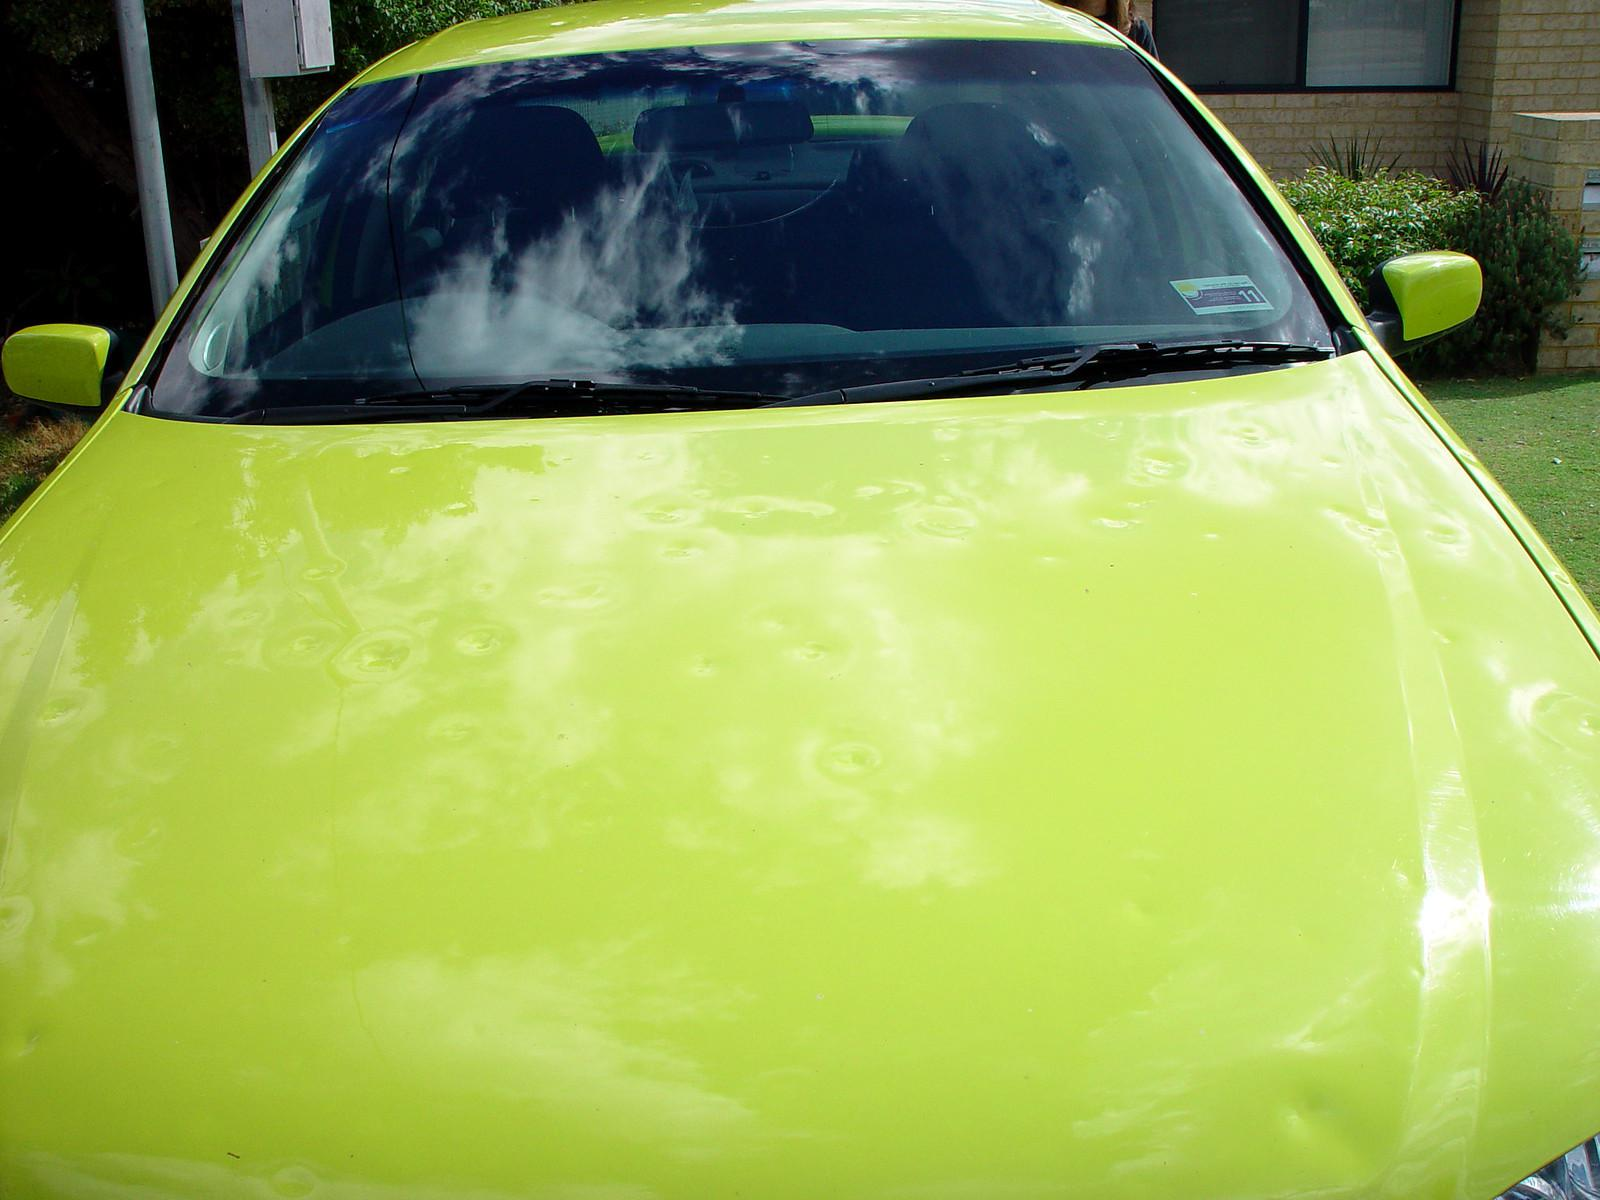bonnet-dent: (8, 420, 1550, 1192)
